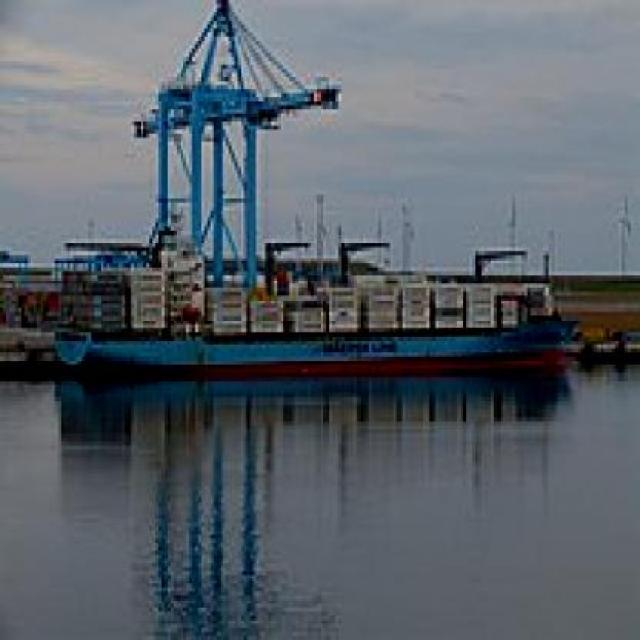Container Ship: (18, 184, 588, 390)
